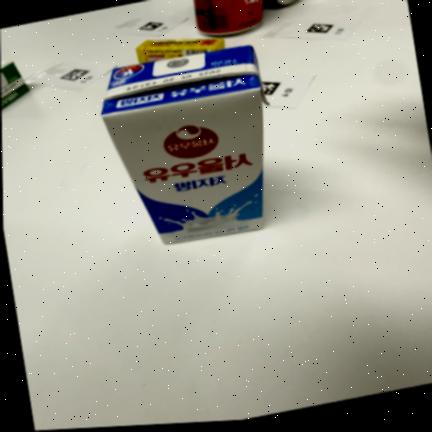milk_blue: (101, 45, 267, 243)
